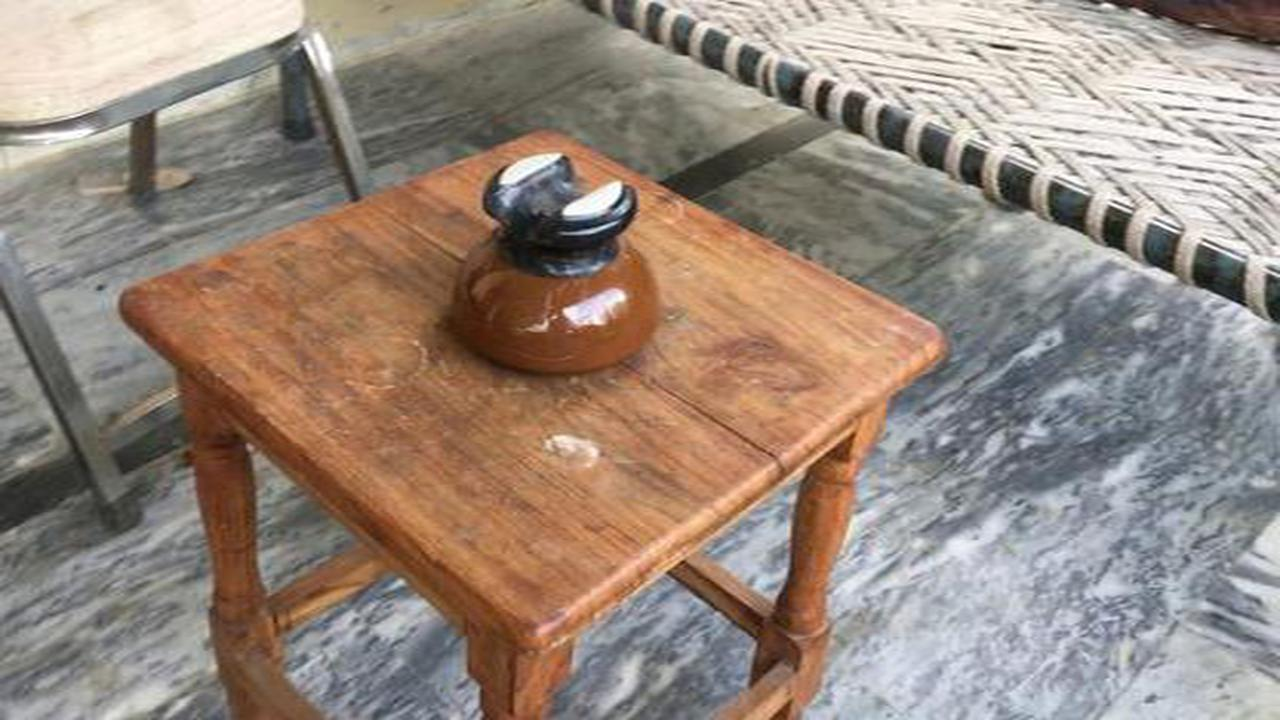insulator_pin: (428, 137, 677, 395)
